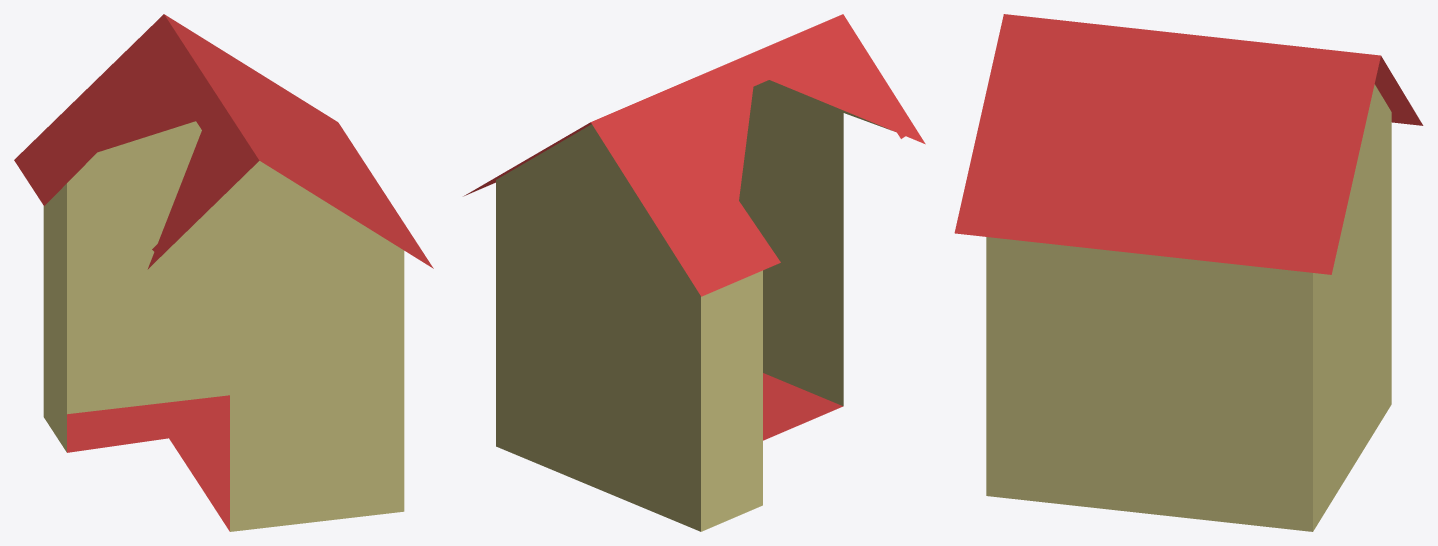
3 renders of one model, left to right at view 1: azimuth 30°, elevation 25°; view 2: azimuth 150°, elevation 25°; view 3: azimuth 270°, elevation 25°, orthographic. The views are drawn at different scales.
Size of the model in its own units: 11.79 by 13.5 by 13.01.
